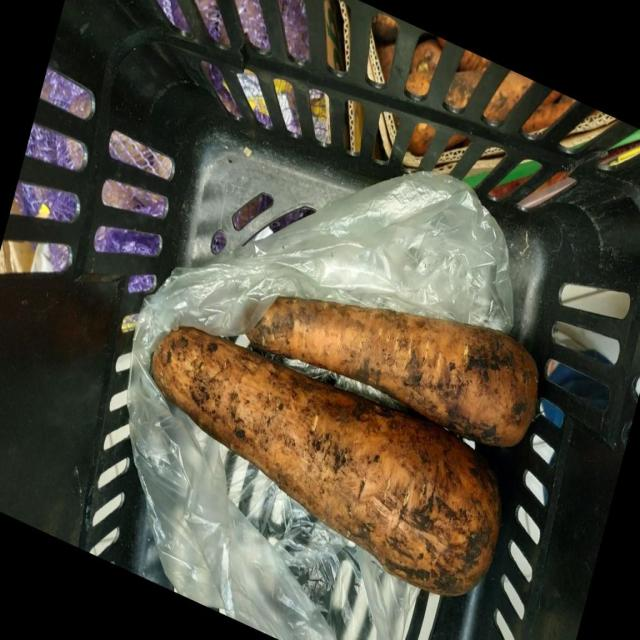Carrot: (152, 325, 501, 595), (247, 295, 537, 446)
